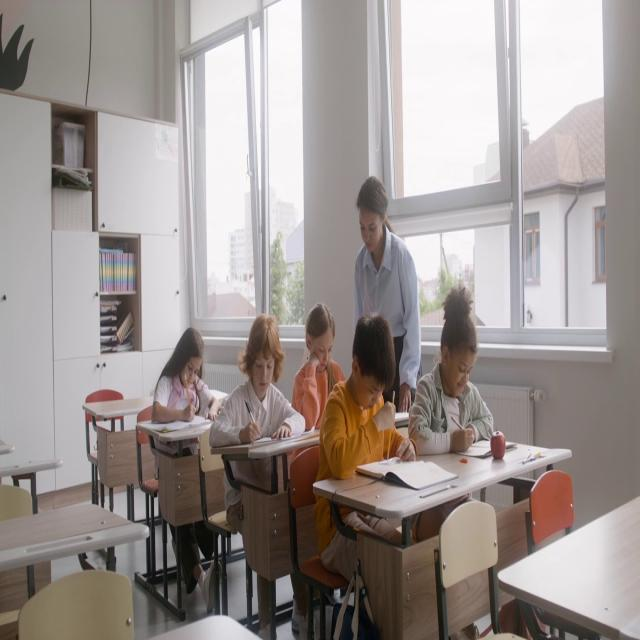reading: (300, 303, 347, 435)
turning: (408, 290, 494, 457)
writing: (311, 312, 409, 640), (210, 315, 306, 519), (153, 328, 217, 450)
